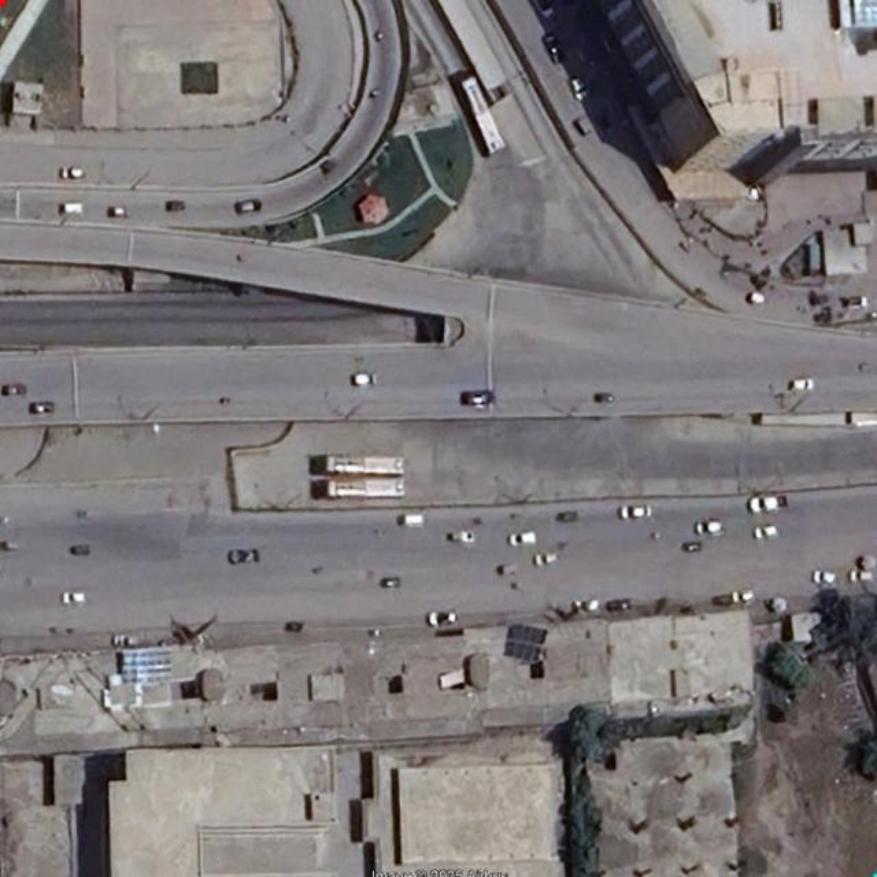Solarpanel: (503, 622, 547, 662), (124, 650, 173, 681)
